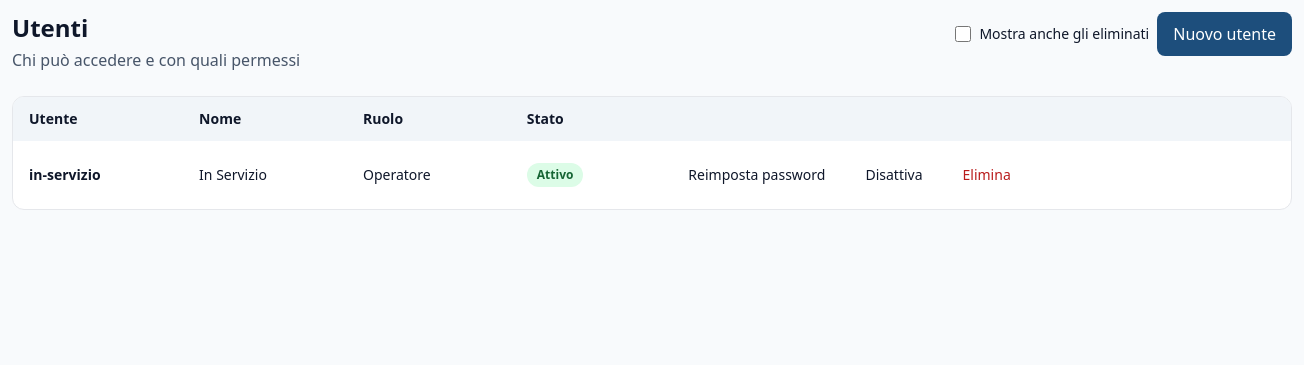
UsersAdmin › offre la rimozione definitiva solo a chi non ha firmato niente
This screenshot has width=1304, height=365.
Click the checkbox labelled "Mostra anche gli eliminati" at {"x": 963, "y": 34}, box [955,26,971,42]
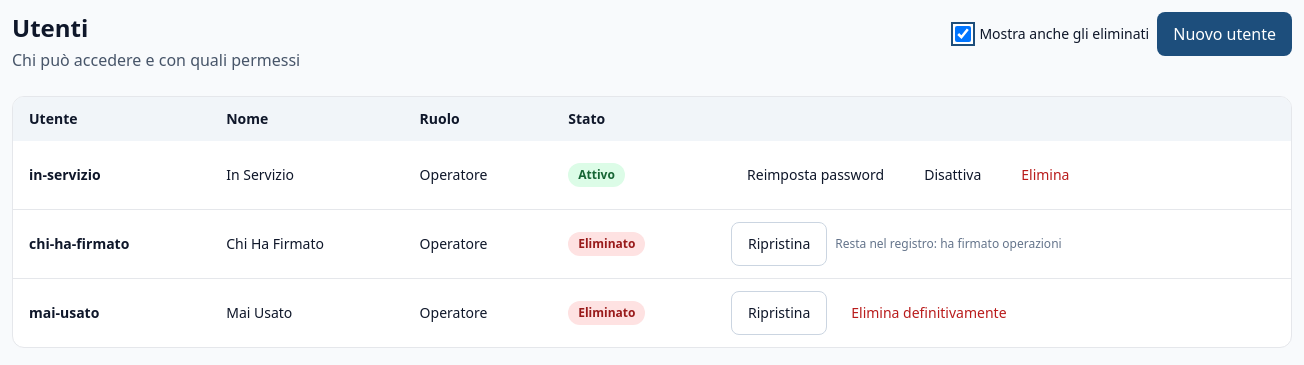
expect the text "mai-usato" is shown: met, box [29,303,99,322]
expect the number of buttons "Elimina definitivamente" is 1: met, box [835,291,1023,335]
expect the text "Resta nel registro: ha firmato operazioni" is shown: met, box [835,236,1062,252]
